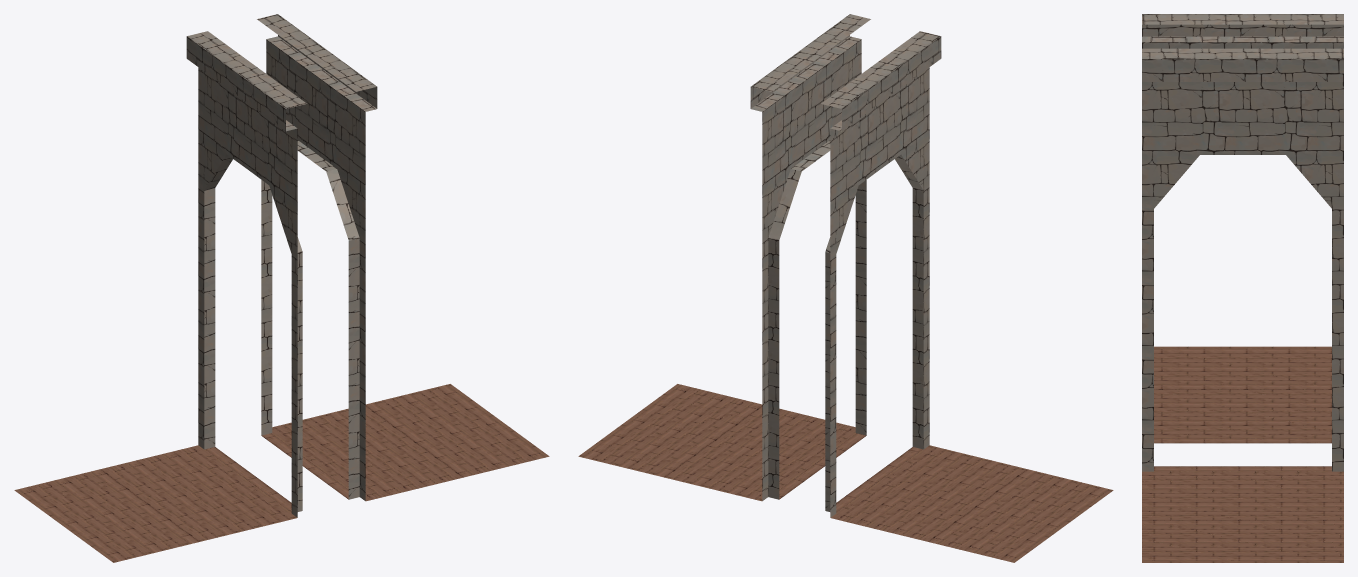
The model's file is New Door Tile.fbx.
3 views of the same model, side by side, from view 1: azimuth 30°, elevation 25°; view 2: azimuth 150°, elevation 25°; view 3: azimuth 270°, elevation 25° (orthographic).
Parts seen in each view (by area): view 1: tile 040, tile 041; view 2: tile 040, tile 041; view 3: tile 041, tile 040.
Part boxes in pixels (<box>): tile 040: <box>14,31,306,562</box>; tile 041: <box>257,14,549,501</box>; tile 040: <box>821,31,1113,562</box>; tile 041: <box>578,14,870,501</box>; tile 041: <box>1142,48,1343,562</box>; tile 040: <box>1142,14,1343,443</box>.
Bounding box in the file's own units: 200 × 78.73 × 180.
